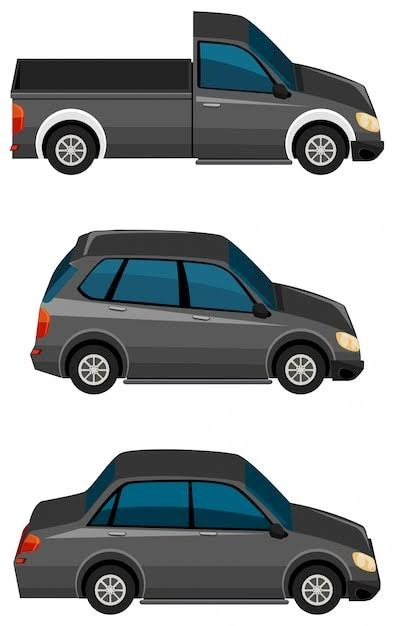car: (5, 286, 382, 607), (3, 163, 372, 451), (14, 96, 390, 369), (26, 251, 376, 503), (7, 28, 394, 251), (11, 26, 394, 206), (34, 216, 374, 403), (28, 446, 370, 619), (180, 15, 388, 176)
